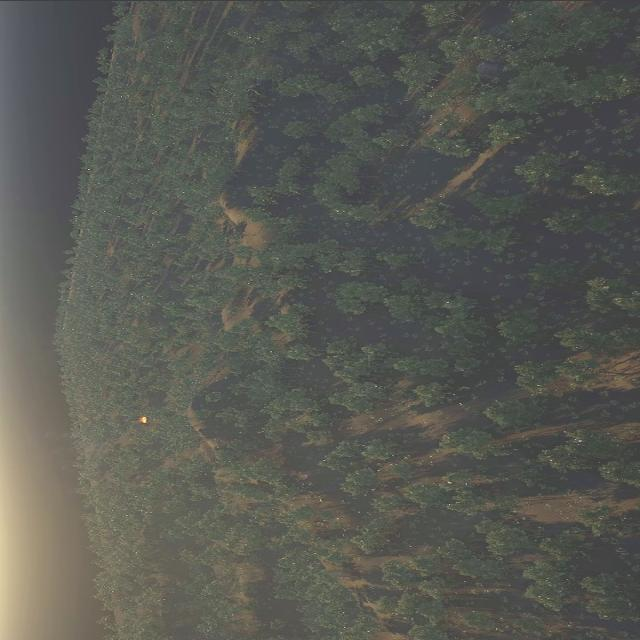fire: (138, 416, 148, 424)
